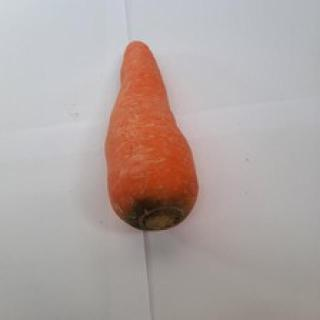carrot: (103, 39, 200, 231)
